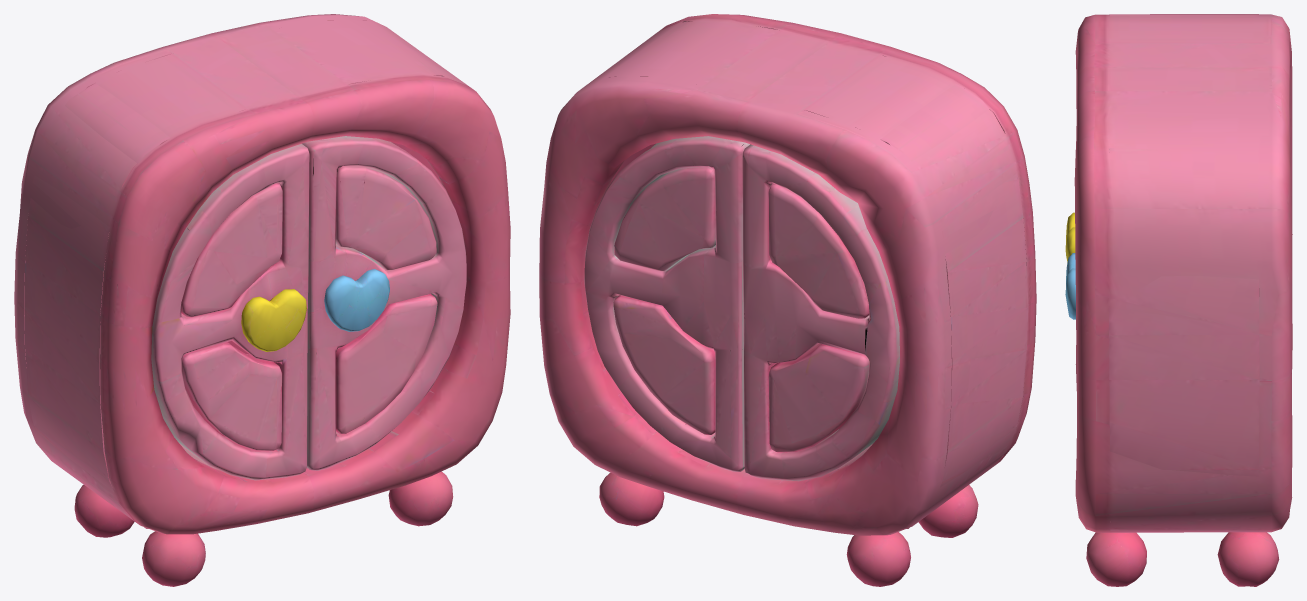
File: wardrobe.glb
The picture shows the model from 3 angles, left to right: view 1: azimuth 30°, elevation 25°; view 2: azimuth 150°, elevation 25°; view 3: azimuth 270°, elevation 25°; orthographic projection.
Visible parts, largest first — view 1: geometry_0; view 2: geometry_0; view 3: geometry_0.
Part boxes in pixels (left/top/right/bottom): geometry_0: left=14, top=14, right=510, bottom=586; geometry_0: left=539, top=14, right=1036, bottom=586; geometry_0: left=1065, top=14, right=1292, bottom=586.
Bounding box in the file's own units: 0.9204 × 1 × 0.4534.
Materials: 1 (1 with a texture image).
